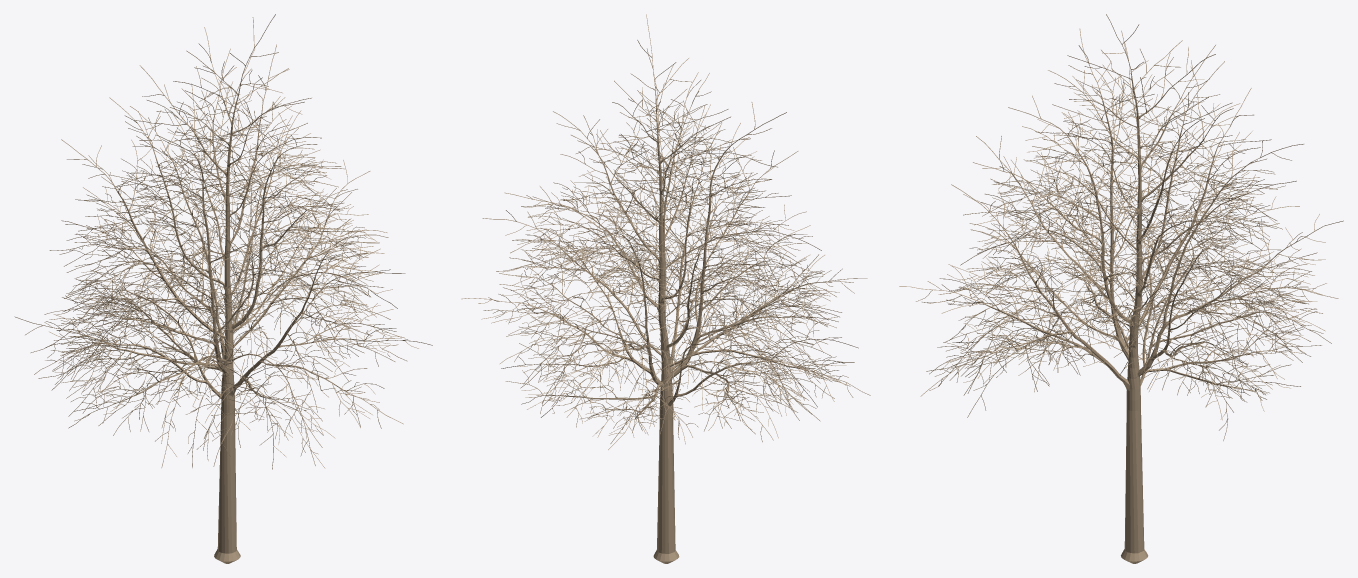
Rendered from Beech_tree.fbx.
3 views of the same model, side by side, from view 1: azimuth 30°, elevation 25°; view 2: azimuth 150°, elevation 25°; view 3: azimuth 270°, elevation 25° (orthographic). The views are drawn at different scales.
Parts seen in each view (by area): view 1: Beech_tree_mesh; view 2: Beech_tree_mesh; view 3: Beech_tree_mesh.
Part boxes in pixels (<box>): Beech_tree_mesh: <box>14,14,432,563</box>; Beech_tree_mesh: <box>461,14,870,563</box>; Beech_tree_mesh: <box>899,14,1343,563</box>.
Bounding box in the file's own units: 273 × 401 × 286.
